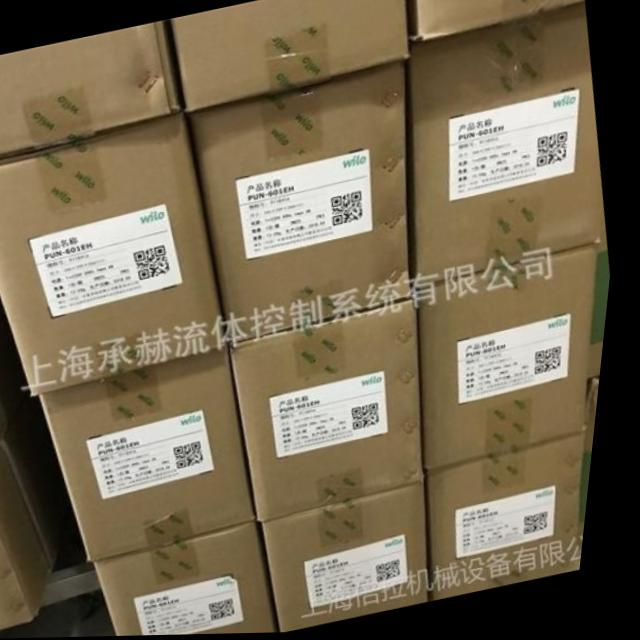box: (0, 114, 233, 396), (190, 62, 419, 344), (412, 5, 606, 289), (50, 349, 267, 563), (237, 299, 435, 526), (422, 246, 604, 475), (435, 436, 595, 604), (170, 0, 410, 112), (275, 483, 442, 634), (0, 22, 185, 156), (108, 525, 291, 637), (409, 0, 585, 45)
